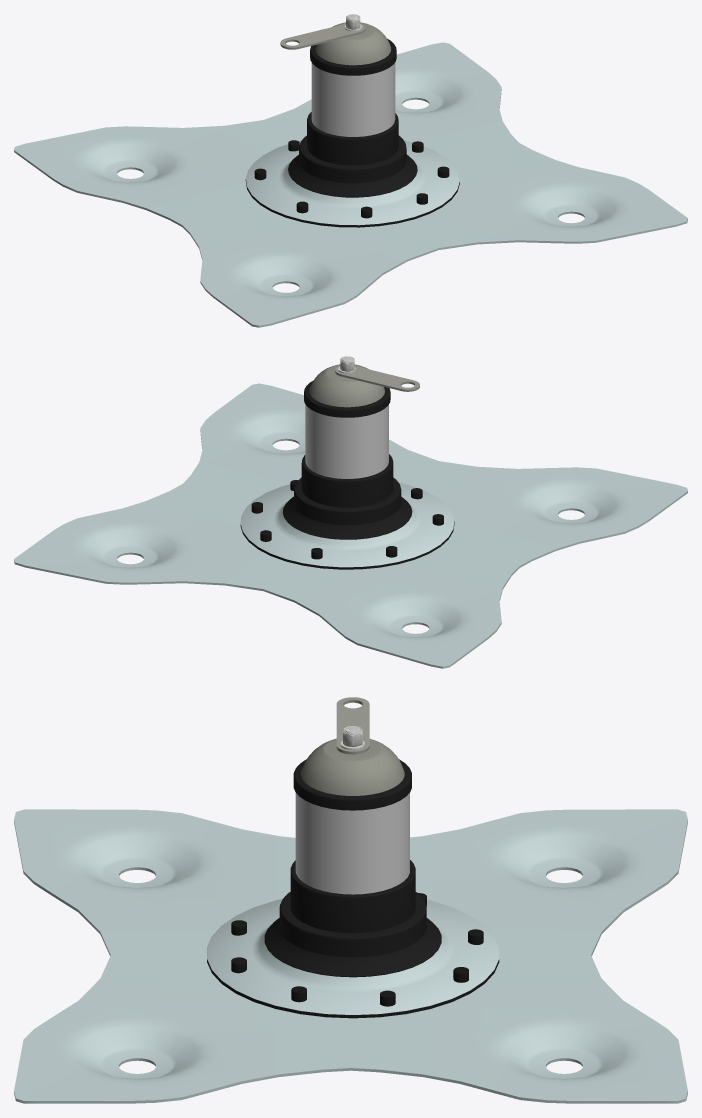
3 views of the same model, one above another, from view 1: azimuth 30°, elevation 25°; view 2: azimuth 150°, elevation 25°; view 3: azimuth 270°, elevation 25° (orthographic). The views are drawn at different scales.
Visible parts, largest first — view 1: Base palteMetal Asset 1.001, Post_Metal Asset 1.001, Eye_Metal Asset 1; view 2: Base palteMetal Asset 1.001, Post_Metal Asset 1.001, Eye_Metal Asset 1; view 3: Base palteMetal Asset 1.001, Post_Metal Asset 1.001, Eye_Metal Asset 1.
Part boxes in pixels (left/top/right/bottom): Base palteMetal Asset 1.001: left=14, top=42, right=687, bottom=327; Post_Metal Asset 1.001: left=245, top=22, right=459, bottom=227; Eye_Metal Asset 1: left=280, top=14, right=365, bottom=49; Base palteMetal Asset 1.001: left=14, top=383, right=687, bottom=668; Post_Metal Asset 1.001: left=240, top=364, right=454, bottom=569; Eye_Metal Asset 1: left=335, top=356, right=419, bottom=391; Base palteMetal Asset 1.001: left=14, top=809, right=687, bottom=1103; Post_Metal Asset 1.001: left=207, top=738, right=499, bottom=1018; Eye_Metal Asset 1: left=336, top=697, right=369, bottom=754.
Bounding box in the file's own units: 1.03 × 0.4054 × 1.01.
Materials: 7 (6 with a texture image).
